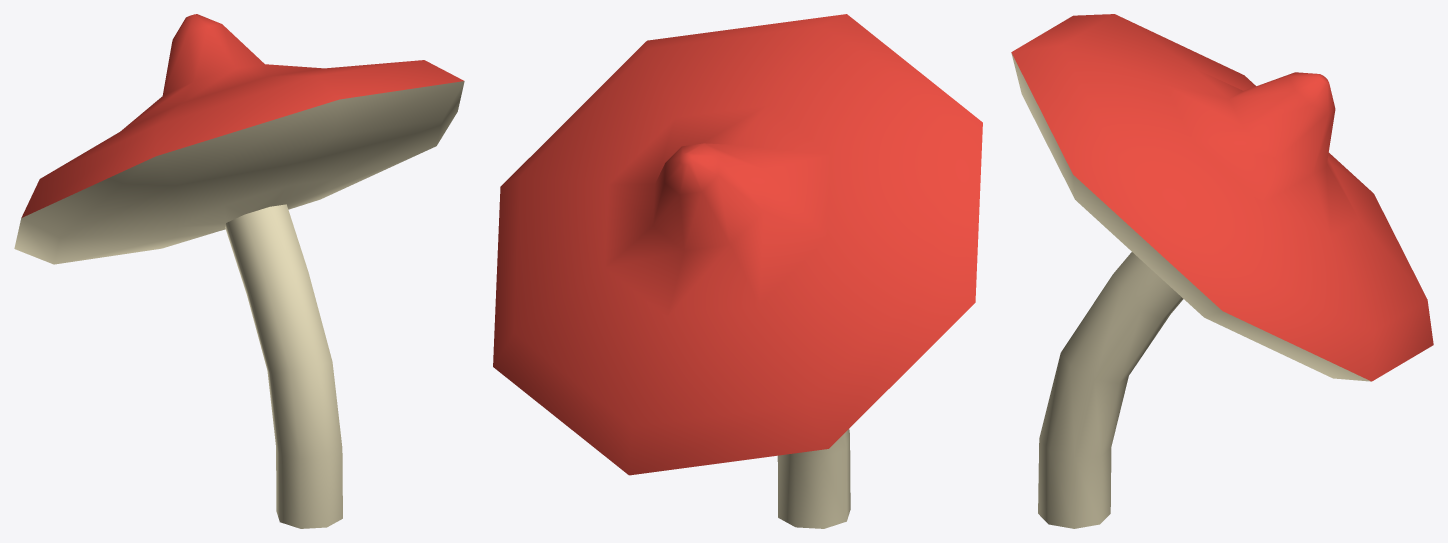
The model's file is mushroom_bent.fbx.
3 renders of one model, left to right at view 1: azimuth 30°, elevation 25°; view 2: azimuth 150°, elevation 25°; view 3: azimuth 270°, elevation 25°, orthographic. The views are drawn at different scales.
Visible parts, largest first — view 1: mushroom.bent; view 2: mushroom.bent; view 3: mushroom.bent.
Part boxes in pixels (left/top/right/bottom): mushroom.bent: left=14, top=14, right=464, bottom=528; mushroom.bent: left=493, top=14, right=982, bottom=528; mushroom.bent: left=1011, top=14, right=1433, bottom=528.
Size of the model in its own units: 175 by 170 by 139.
